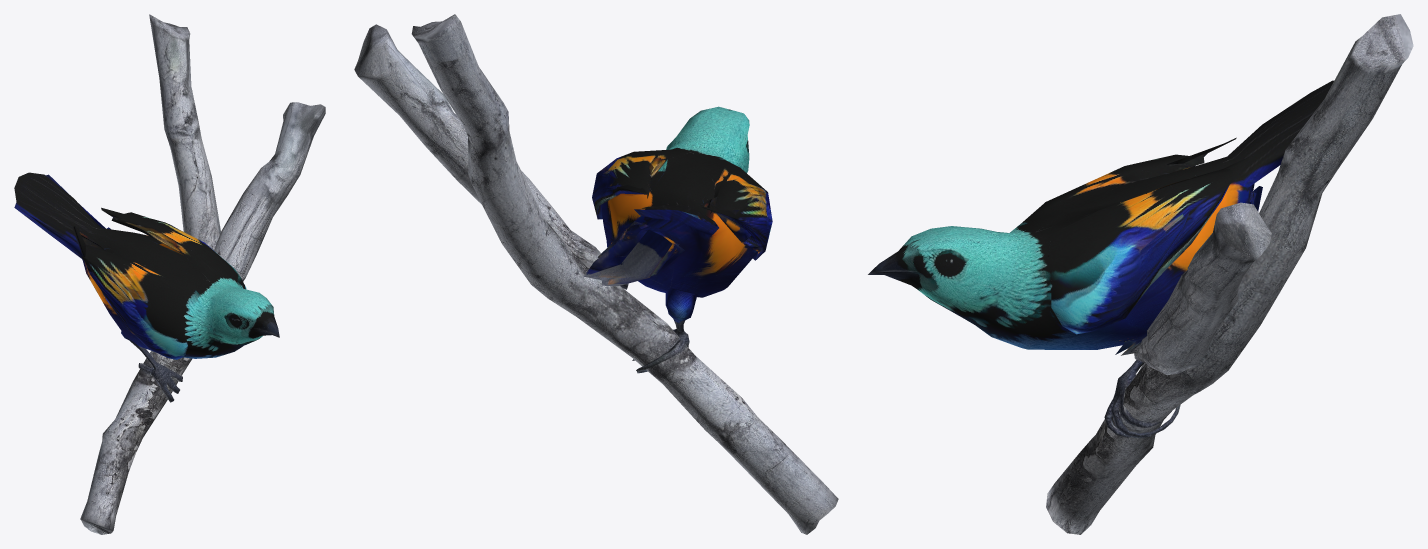
Rendered from saira_pintor_med.glb.
3 views of the same model, side by side, from view 1: azimuth 30°, elevation 25°; view 2: azimuth 150°, elevation 25°; view 3: azimuth 270°, elevation 25° (orthographic). The views are drawn at different scales.
Size of the model in its own units: 0.7124 by 0.9536 by 0.7437.
Materials: 1 (1 with a texture image).
